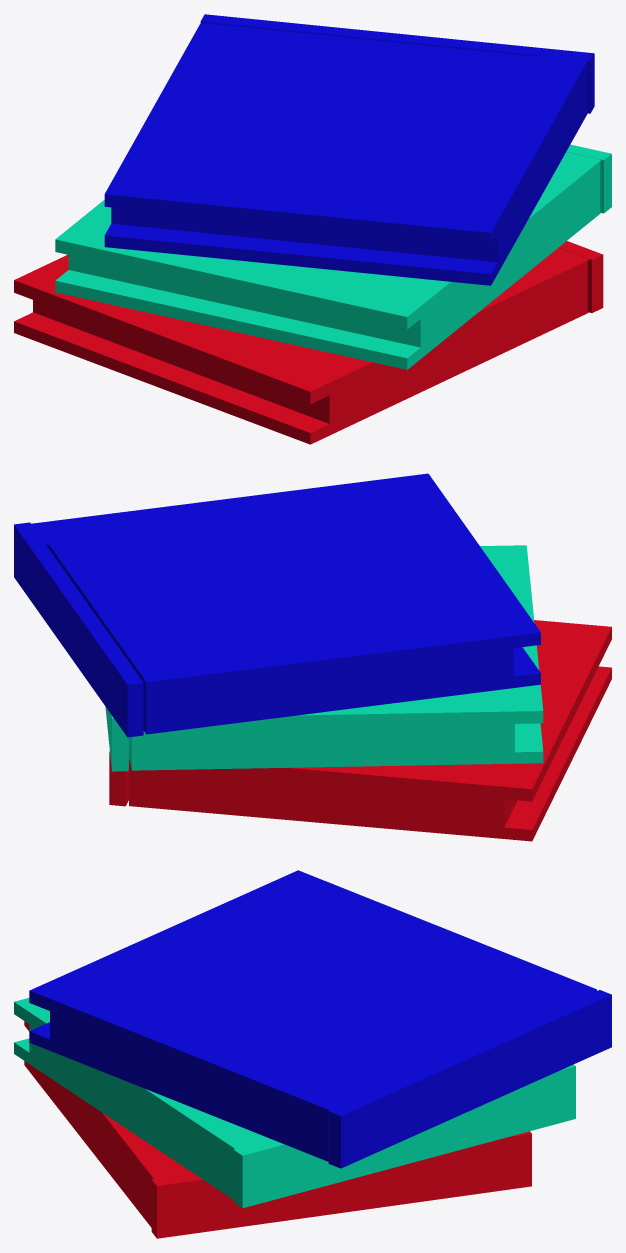
The model's file is stackOFbooks.fbx.
3 views of the same model, one above another, from view 1: azimuth 30°, elevation 25°; view 2: azimuth 150°, elevation 25°; view 3: azimuth 270°, elevation 25° (orthographic).
Parts seen in each view (by area): view 1: Cube.001, Cube, Cube.002; view 2: Cube.001, Cube, Cube.002; view 3: Cube.001, Cube.002, Cube.
Boxes of the visible parts, left/top/right/bottom form: Cube.001: left=104, top=14, right=594, bottom=285; Cube: left=14, top=241, right=603, bottom=444; Cube.002: left=55, top=144, right=611, bottom=369; Cube.001: left=14, top=473, right=540, bottom=737; Cube: left=109, top=620, right=611, bottom=841; Cube.002: left=105, top=545, right=543, bottom=771; Cube.001: left=29, top=870, right=611, bottom=1168; Cube.002: left=14, top=998, right=575, bottom=1208; Cube: left=24, top=1021, right=531, bottom=1238.
Bounding box in the file's own units: 2297 × 658 × 2184.
